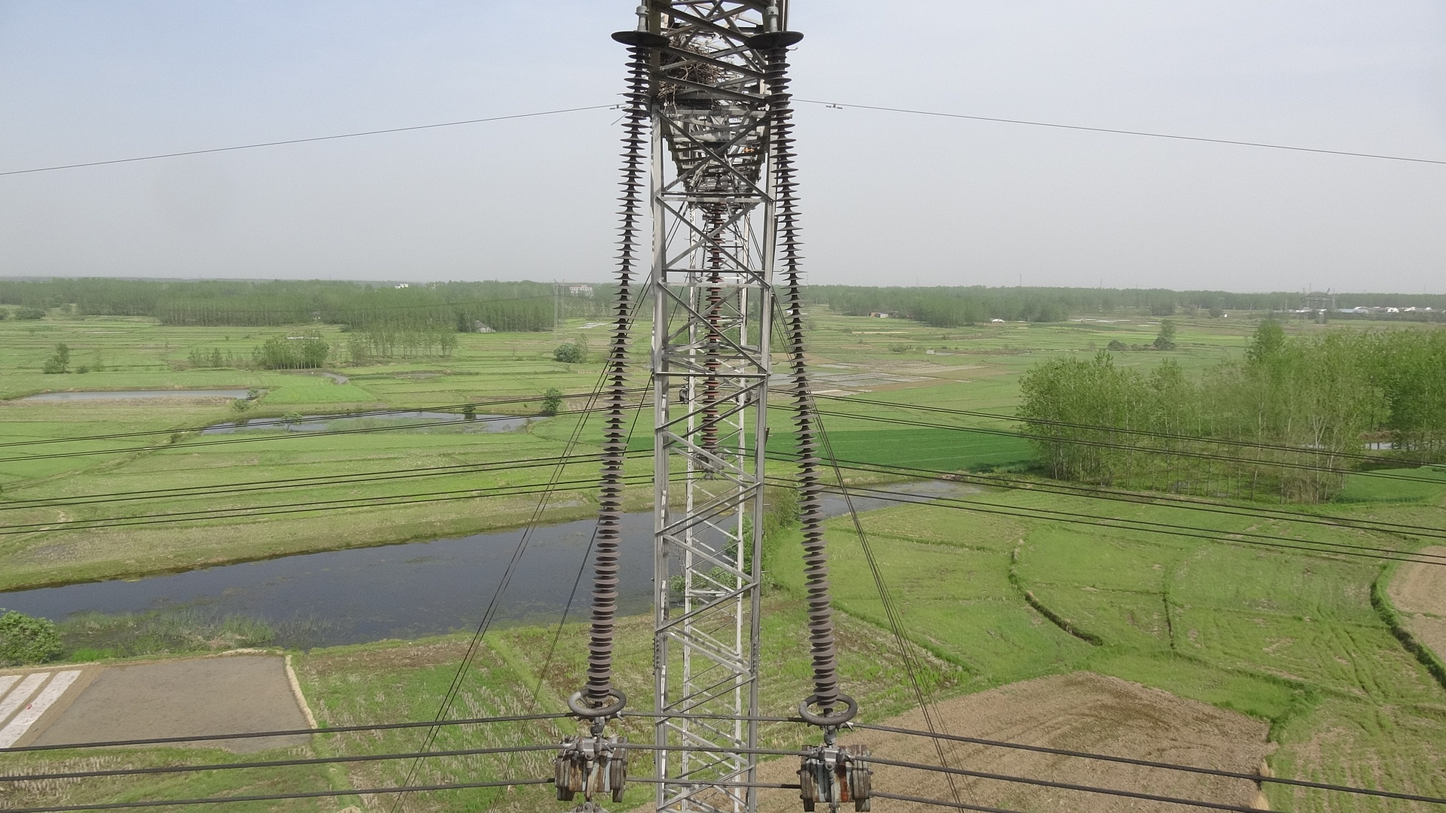insulator: (761, 40, 844, 711), (578, 41, 651, 705), (698, 214, 730, 452)
